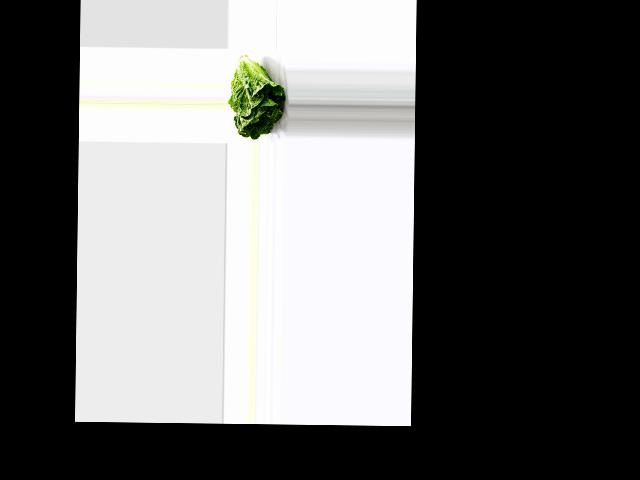lettuce: (227, 56, 286, 138)
